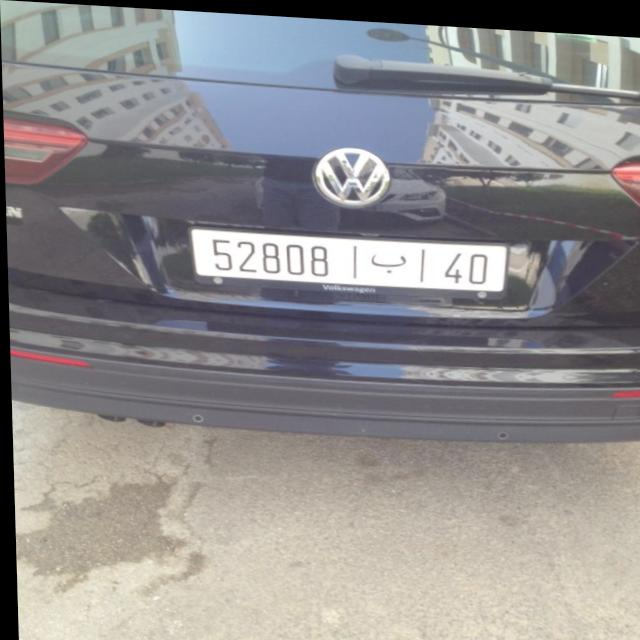License-Plate: (188, 225, 507, 291)
